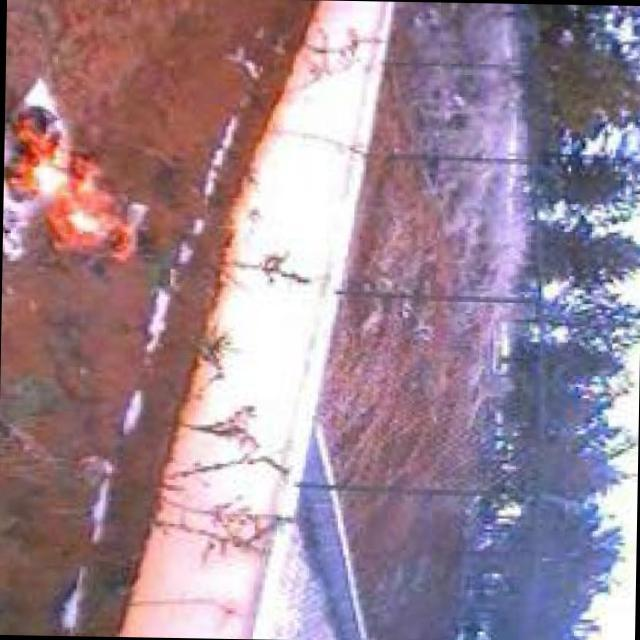Fire: (2, 87, 143, 265)
